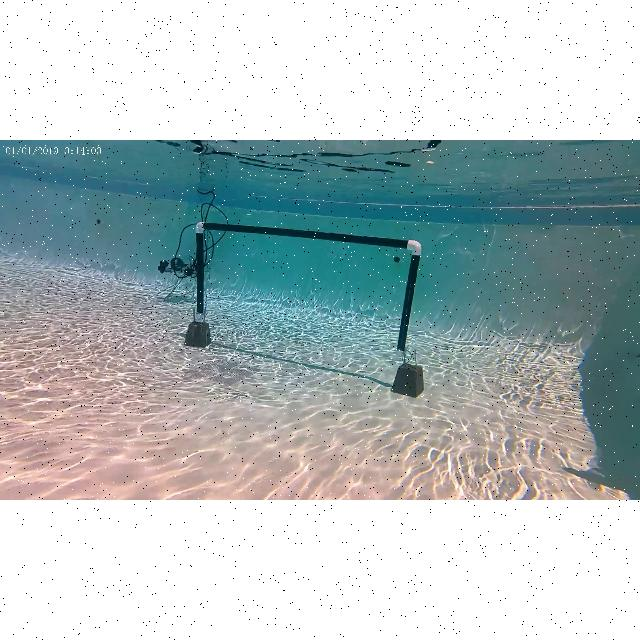prequal gate: (195, 220, 422, 356)
prequal gate leg l: (186, 221, 214, 347)
prequal gate leg r: (394, 238, 424, 398)
